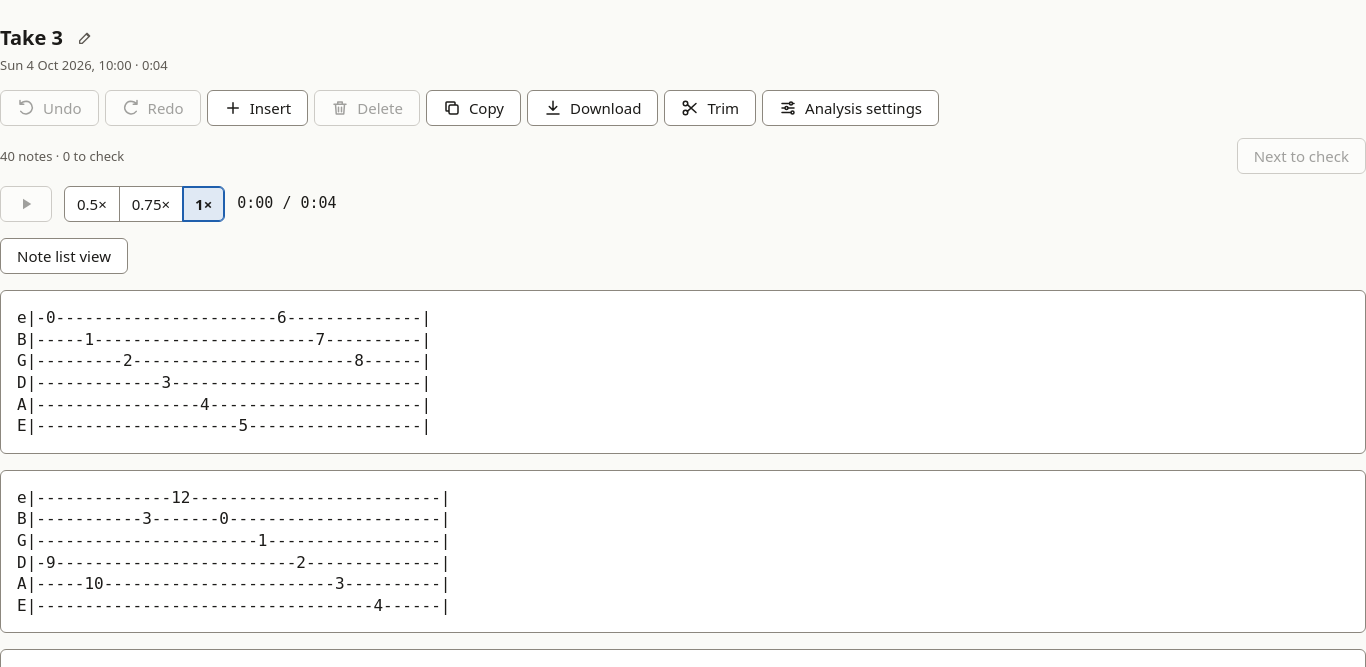
Scenario: Tab screen tab area, header and selection › Note list view: a toggle that shows the same labels in played order
Click the button "Note list view": (64, 256) [0,238,128,274]
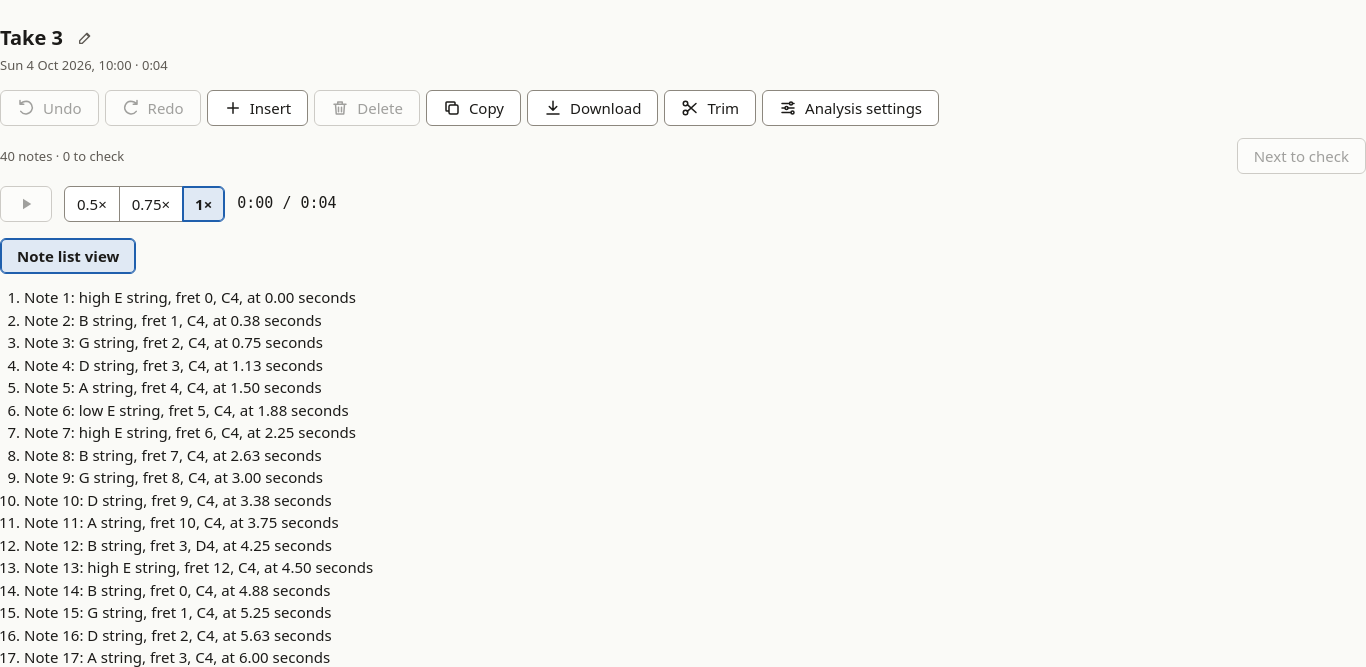
Result: the list item "Note 12: B string, fret 3, D4, at 4.25 seconds" is shown at [24,535,332,555]
